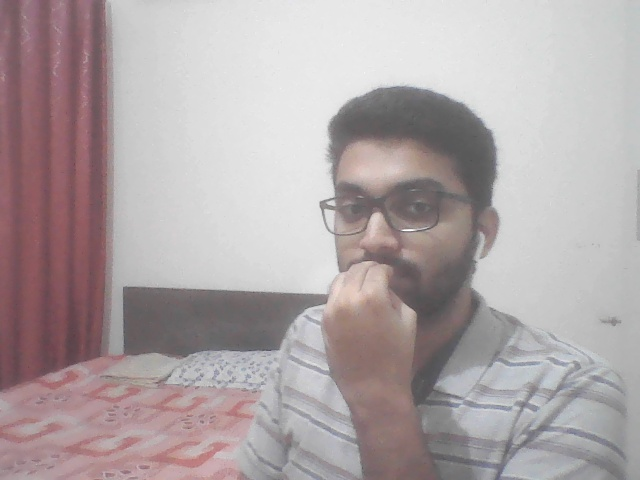eat: (300, 251, 434, 430)
